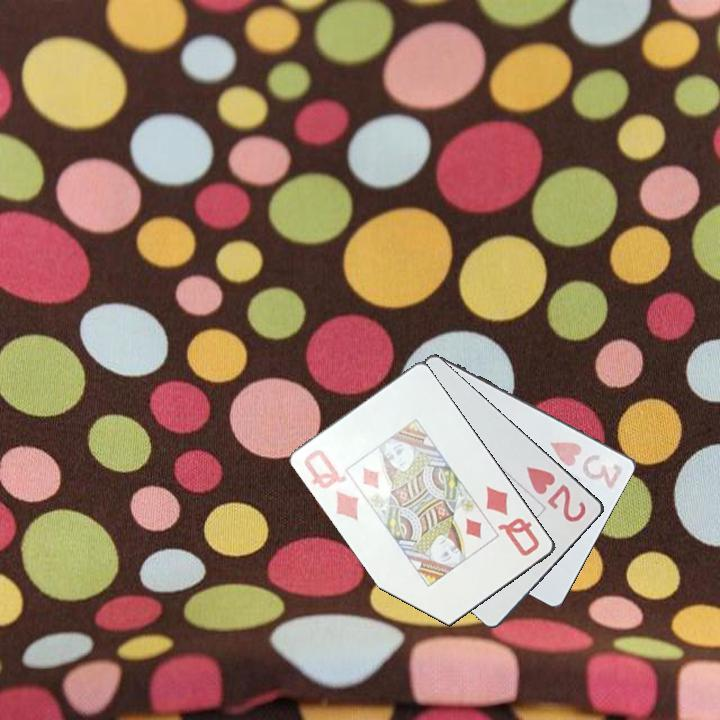2h: (523, 462, 589, 525)
3h: (547, 436, 626, 492)
Qd: (301, 446, 362, 523), (483, 482, 543, 559)
